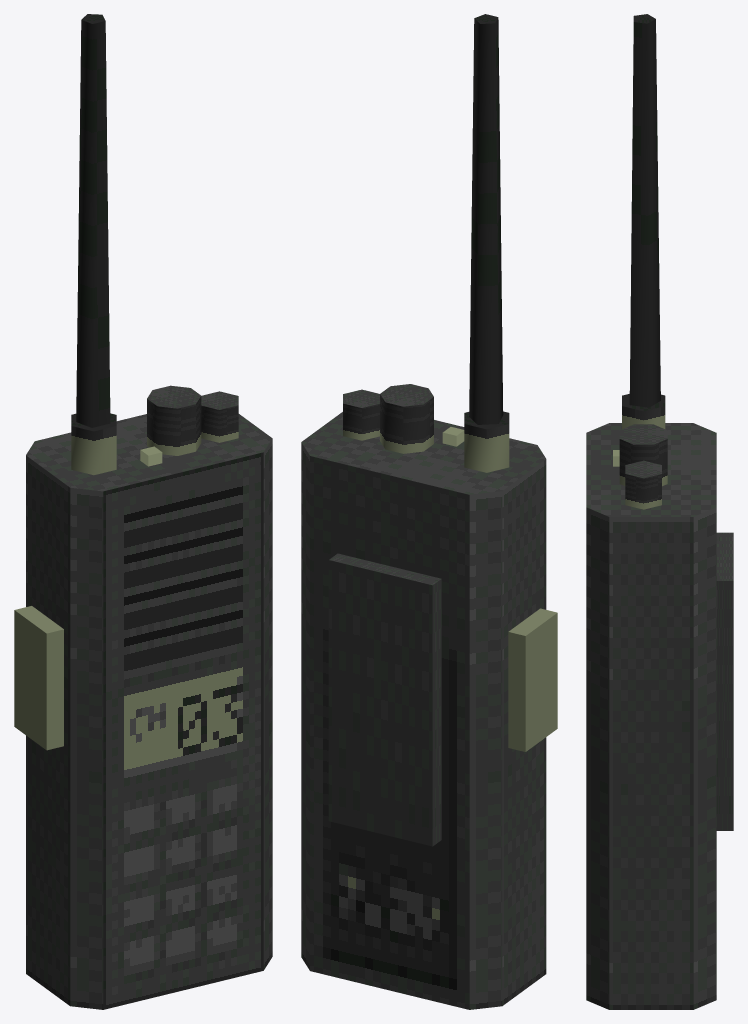
The model's file is walkie_talkie.glb.
3 renders of one model, left to right at view 1: azimuth 30°, elevation 25°; view 2: azimuth 150°, elevation 25°; view 3: azimuth 270°, elevation 25°, orthographic. The views are drawn at different scales.
Visible parts, largest first — view 1: walkie_talkie; view 2: walkie_talkie; view 3: walkie_talkie.
Part boxes in pixels (x1,y1,x2,y2): walkie_talkie: (14,14,272,1009); walkie_talkie: (301,14,557,1009); walkie_talkie: (586,14,733,1009).
Size of the model in its own units: 0.063 by 0.264 by 0.0385.
2 materials, 2 textured.
